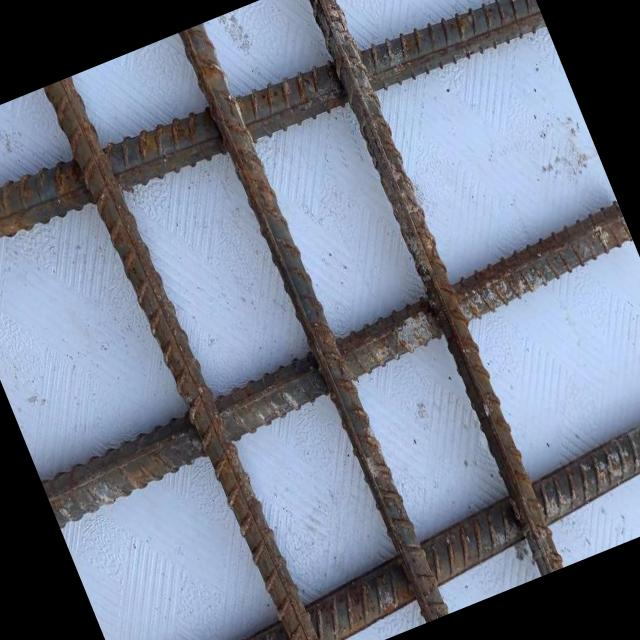ribbed bar: (24, 200, 640, 531), (41, 67, 330, 640), (177, 19, 450, 625), (299, 0, 566, 576), (0, 0, 546, 266), (100, 389, 640, 640)
